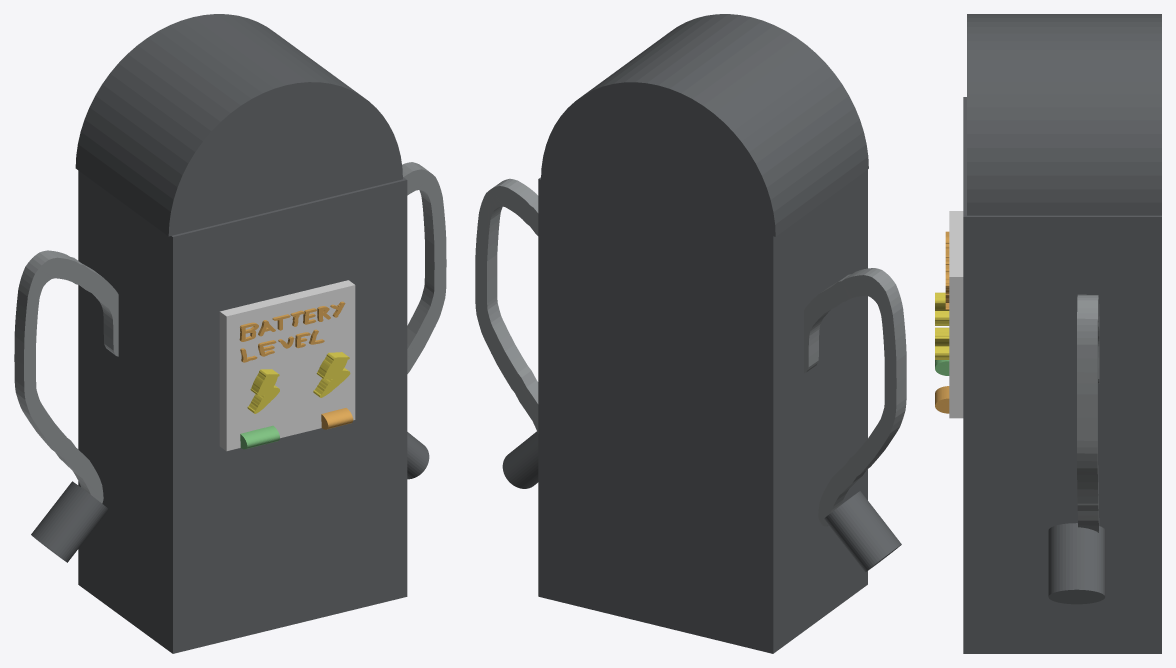
The model's file is Smashing Inari-Vihelmo.glb.
3 views of the same model, side by side, from view 1: azimuth 30°, elevation 25°; view 2: azimuth 150°, elevation 25°; view 3: azimuth 270°, elevation 25° (orthographic). The views are drawn at different scales.
Parts seen in each view (by area): view 1: Mesh_Mesh_head_geo.001_lambert2SG.001; view 2: Mesh_Mesh_head_geo.001_lambert2SG.001; view 3: Mesh_Mesh_head_geo.001_lambert2SG.001.
Part boxes in pixels (<box>): Mesh_Mesh_head_geo.001_lambert2SG.001: <box>14,14,446,653</box>; Mesh_Mesh_head_geo.001_lambert2SG.001: <box>475,14,906,653</box>; Mesh_Mesh_head_geo.001_lambert2SG.001: <box>935,14,1161,653</box>.
Bounding box in the file's own units: 0.036 × 0.044 × 0.016.
